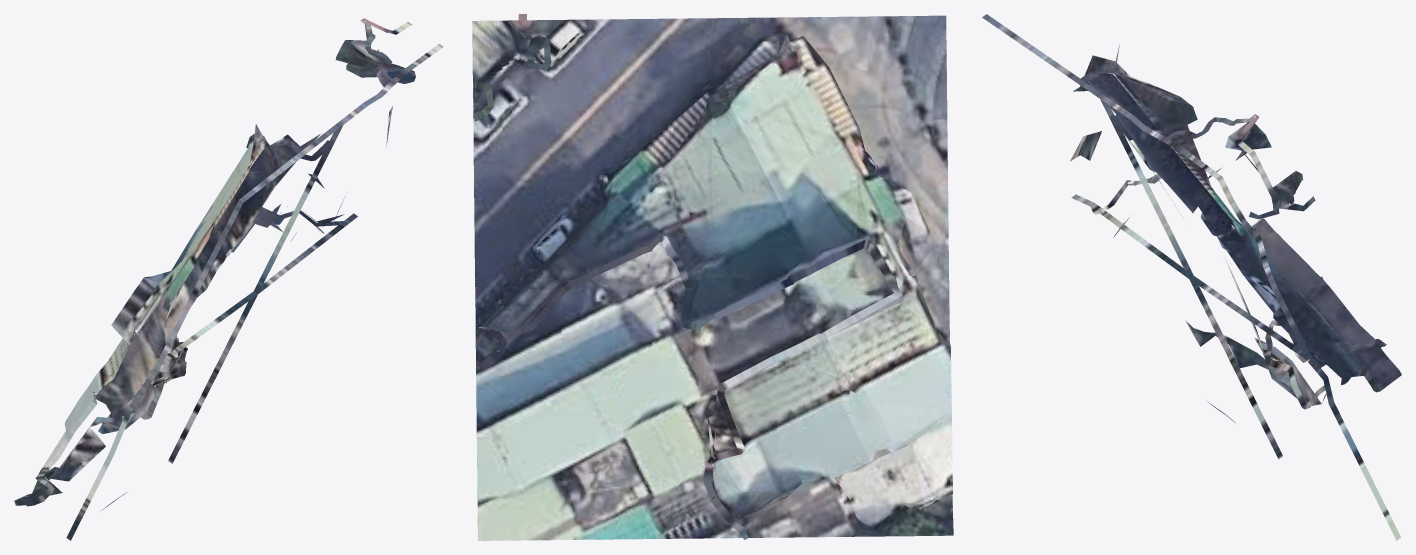
The picture shows the model from 3 angles, left to right: view 1: azimuth 30°, elevation 25°; view 2: azimuth 150°, elevation 25°; view 3: azimuth 270°, elevation 25°; orthographic projection. The views are drawn at different scales.
Bounding box in the file's own units: 40.82 × 37.58 × 32.25.
2 materials, 2 textured.
